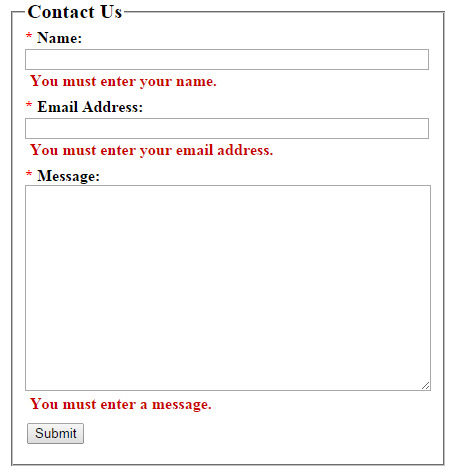error_message: (28, 142, 274, 159), (30, 396, 211, 413), (30, 73, 218, 88)
